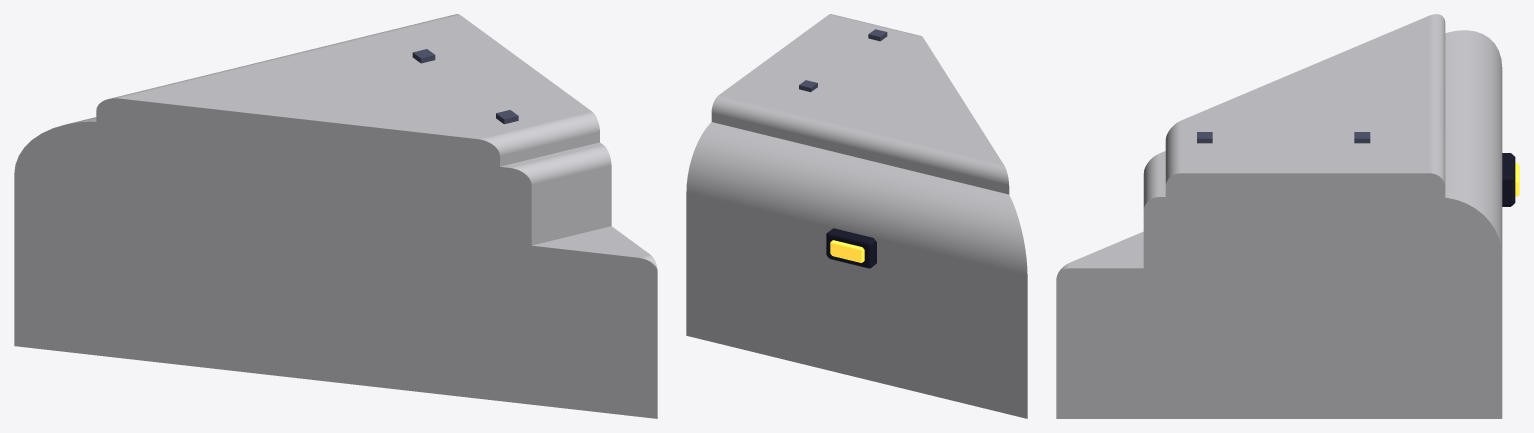
Rendered from roof.shoulder.straight.plain.s0.c45_0.glb.
3 views of the same model, side by side, from view 1: azimuth 30°, elevation 25°; view 2: azimuth 150°, elevation 25°; view 3: azimuth 270°, elevation 25° (orthographic). The views are drawn at different scales.
Visible parts, largest first — view 1: roof.shoulder.straight.plain.s0.c45_0; view 2: roof.shoulder.straight.plain.s0.c45_0; view 3: roof.shoulder.straight.plain.s0.c45_0.
Part boxes in pixels (box(x1,y1,x2,y2)): roof.shoulder.straight.plain.s0.c45_0: box(14, 14, 657, 418); roof.shoulder.straight.plain.s0.c45_0: box(686, 14, 1027, 418); roof.shoulder.straight.plain.s0.c45_0: box(1056, 14, 1519, 418).
Size of the model in its own units: 1.02 by 0.632 by 1.06.
